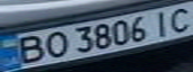0: (112, 17, 136, 46)
3: (69, 25, 97, 54)
6: (127, 12, 154, 43)
8: (90, 20, 115, 51)
B: (6, 33, 51, 65)
C: (163, 3, 193, 34)
I: (148, 8, 175, 37)
O: (36, 29, 72, 60)
